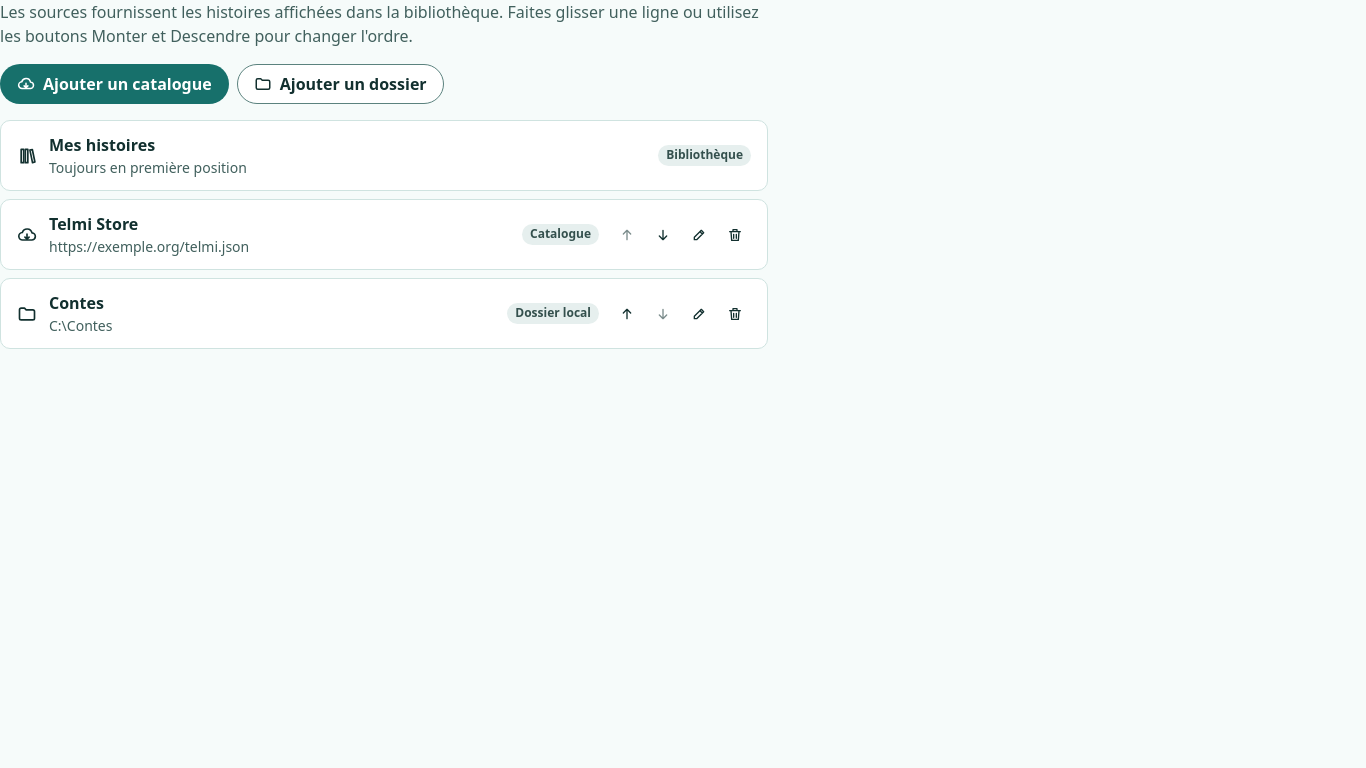
Test: affiche l'erreur du backend dans le formulaire puis ajoute le catalogue
expect the text "Telmi Store" is shown: met, box [49, 213, 138, 235]
Click the button "Ajouter un catalogue": (114, 84) [0, 64, 229, 104]
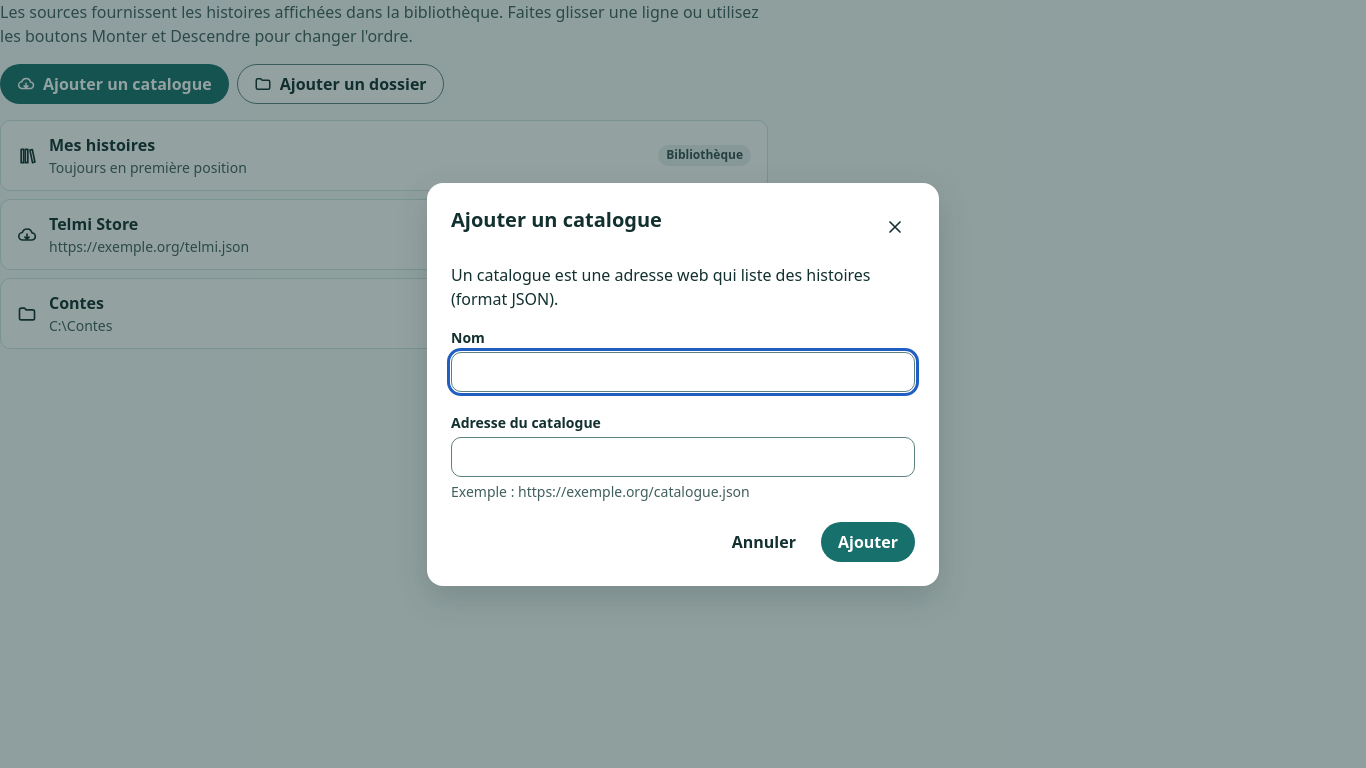
In the field labelled "Nom": (683, 372) [451, 352, 915, 392], type "Mon catalogue"
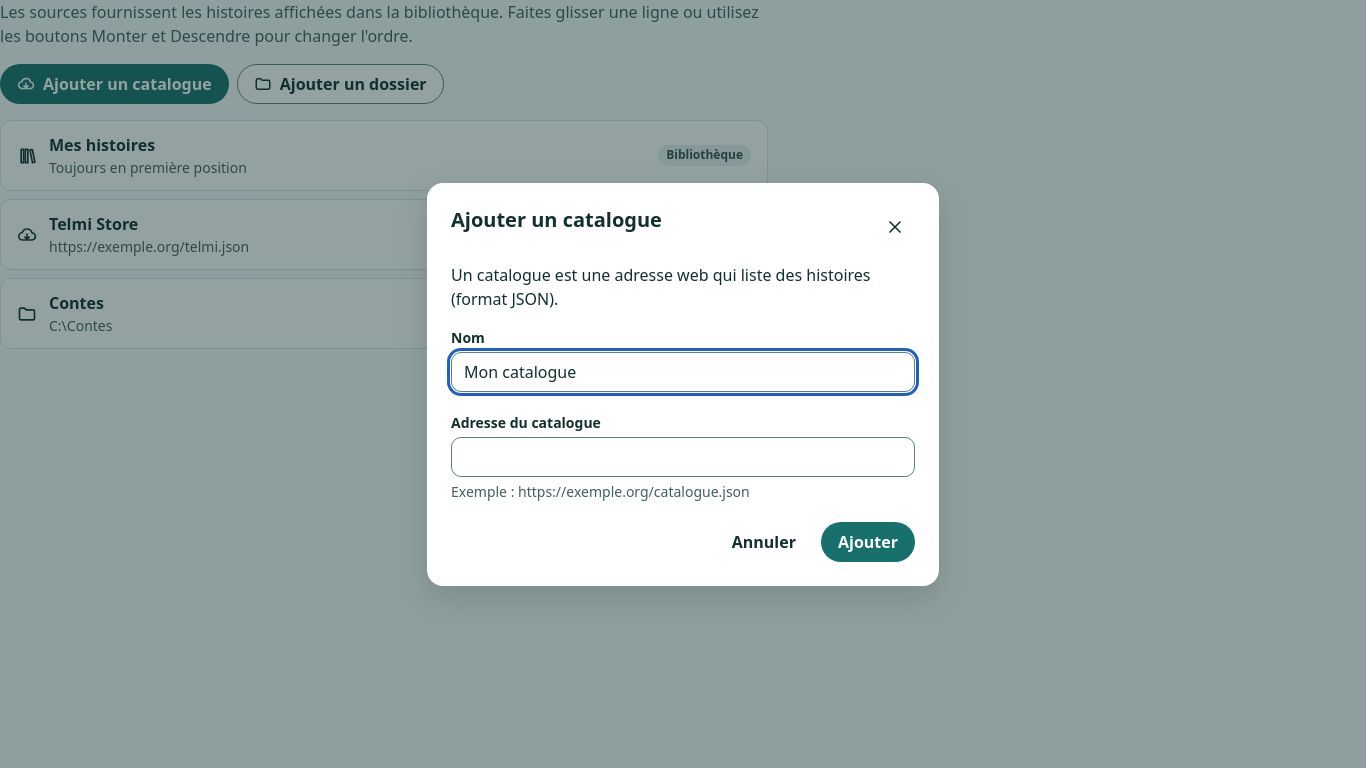
In the field labelled "Adresse du catalogue": (683, 456) [451, 436, 915, 476], type "https://exemple.org/c.json"
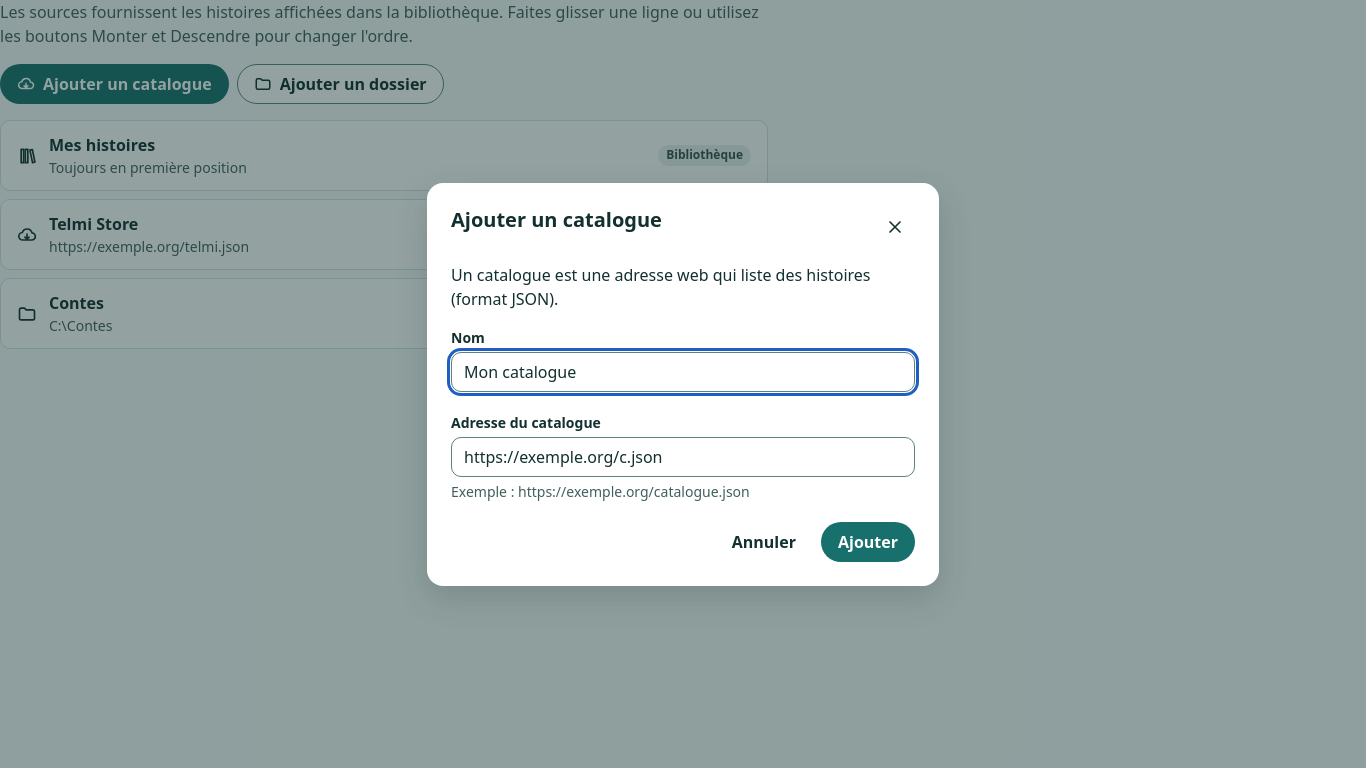
Click the button "Ajouter": (868, 542) [821, 522, 915, 562]
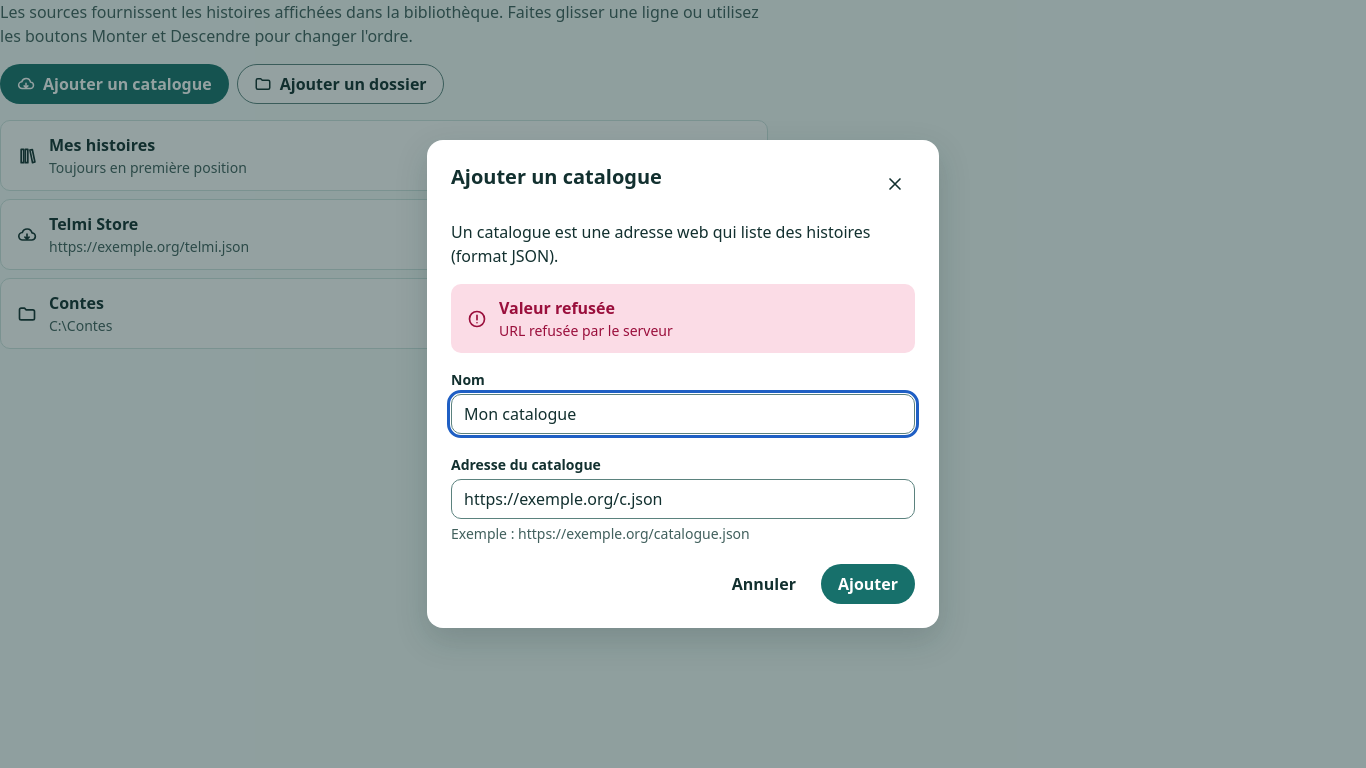
expect the message shows "Valeur refusée": met, box [499, 297, 615, 319]
expect the message shows "URL refusée par le serveur": met, box [499, 321, 673, 340]
Click the button "Ajouter": (868, 584) [821, 564, 915, 604]
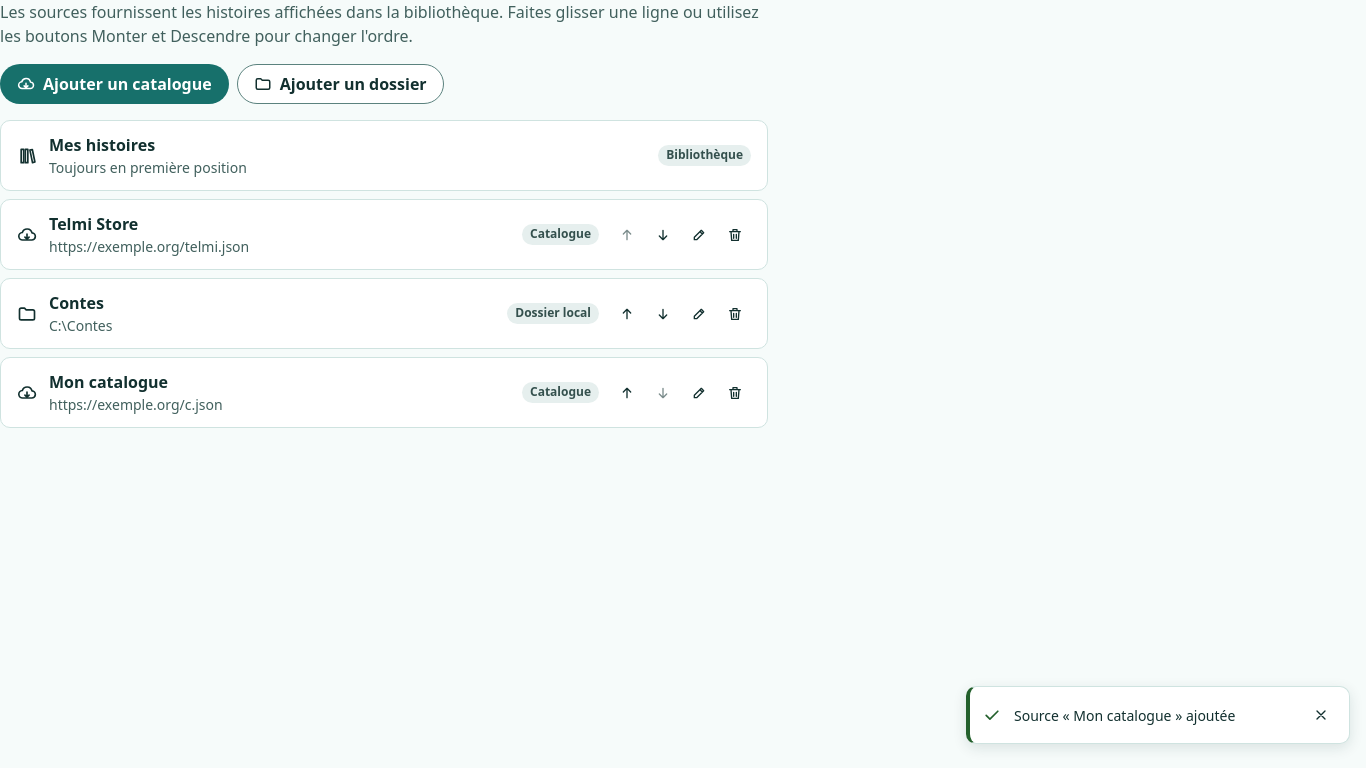
expect the dialog is gone: met
expect the text "Mon catalogue" is shown: met, box [49, 371, 168, 393]
expect the text "Source « Mon catalogue » ajoutée" is shown: met, box [1014, 706, 1235, 725]
